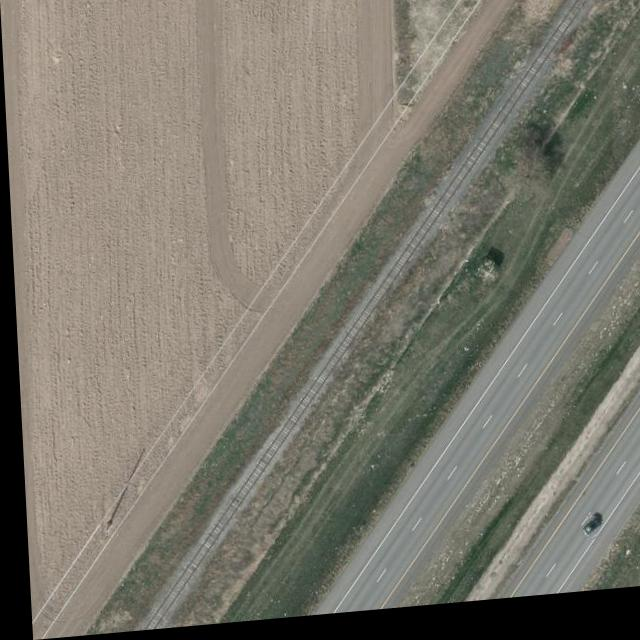vehicle: (575, 525, 596, 550)
